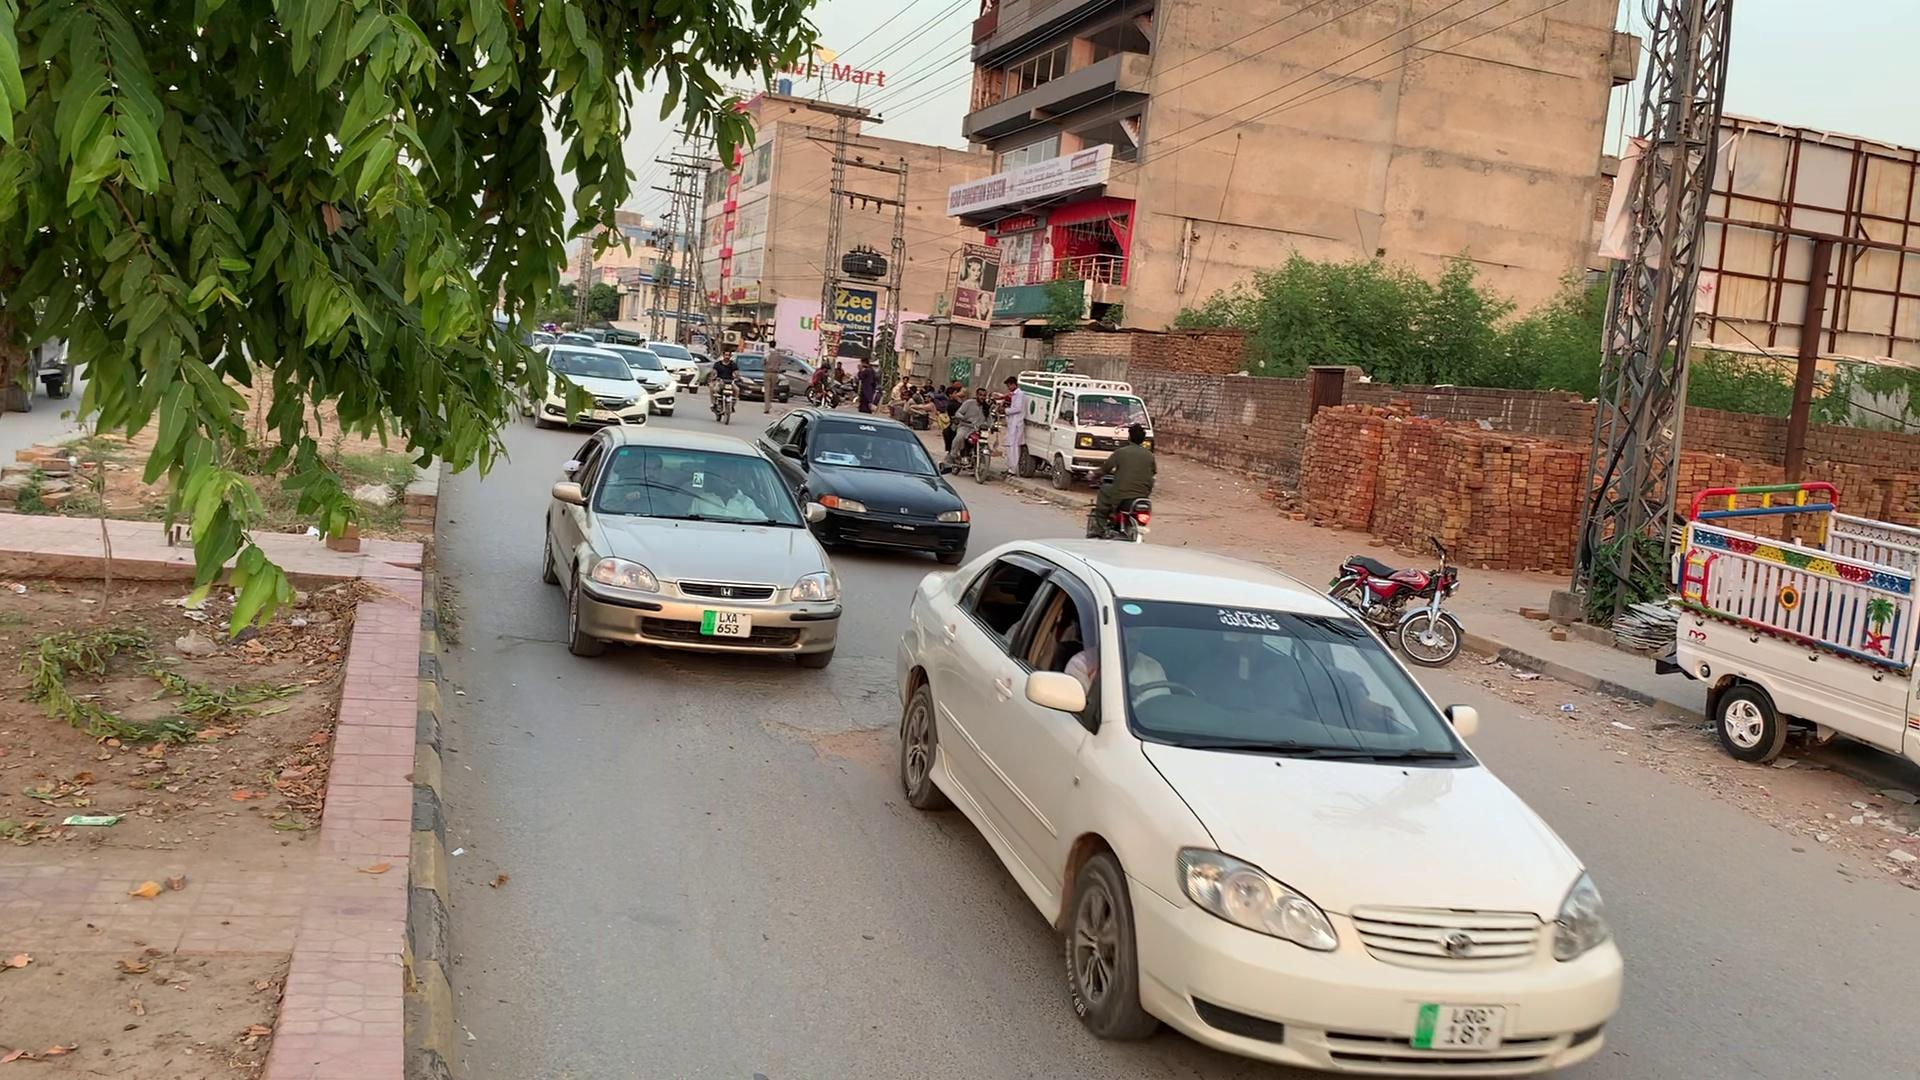windshield: (1114, 574, 1494, 773), (580, 440, 811, 535)
